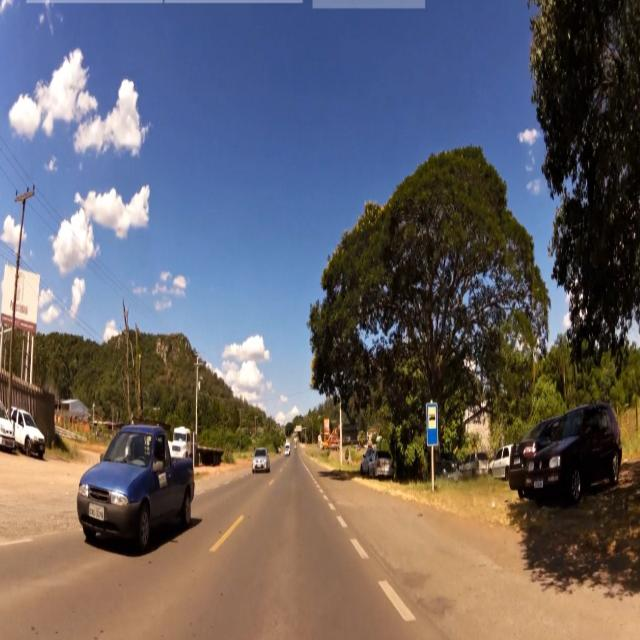S-14: (425, 402, 438, 446)
